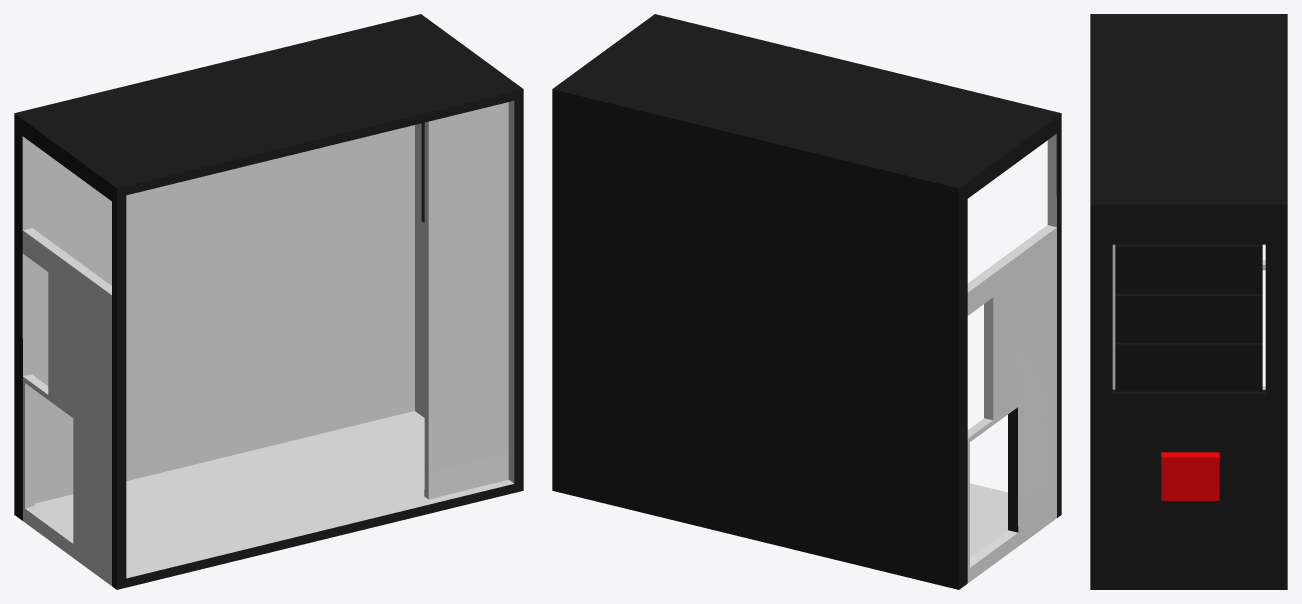
File: case01.fbx
3 renders of one model, left to right at view 1: azimuth 30°, elevation 25°; view 2: azimuth 150°, elevation 25°; view 3: azimuth 270°, elevation 25°, orthographic. The views are drawn at different scales.
Parts seen in each view (by area): view 1: Cube; view 2: Cube; view 3: Cube, Plane.002, Plane, Plane.001.
Part boxes in pixels (bbox=[...]): Cube: bbox=[14, 14, 523, 589]; Cube: bbox=[552, 14, 1061, 589]; Cube: bbox=[1090, 14, 1287, 589]; Plane.002: bbox=[1115, 244, 1262, 293]; Plane: bbox=[1115, 343, 1262, 391]; Plane.001: bbox=[1115, 294, 1262, 342].
Bounding box in the file's own units: 350 × 322 × 149.
